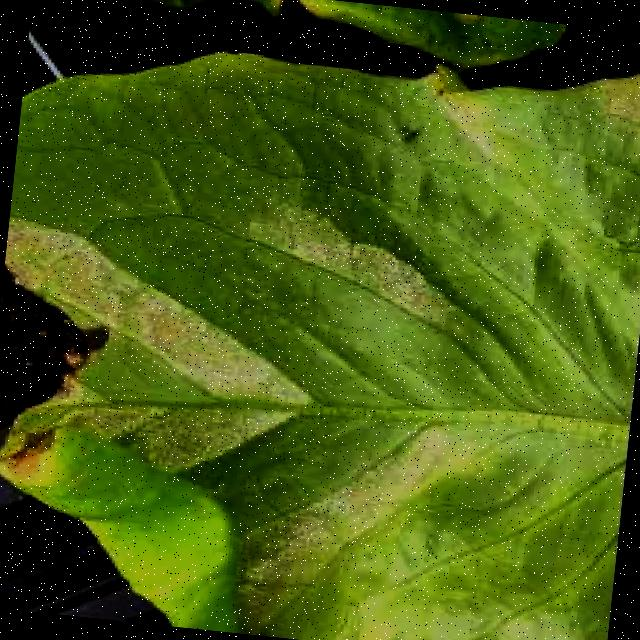Powdery_mildew_on_lettuce: (100, 180, 471, 526)
